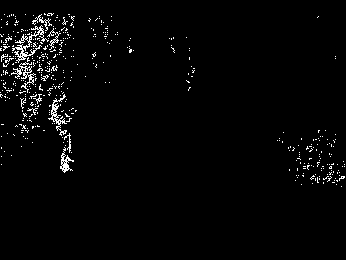person: (47, 89, 84, 174)
